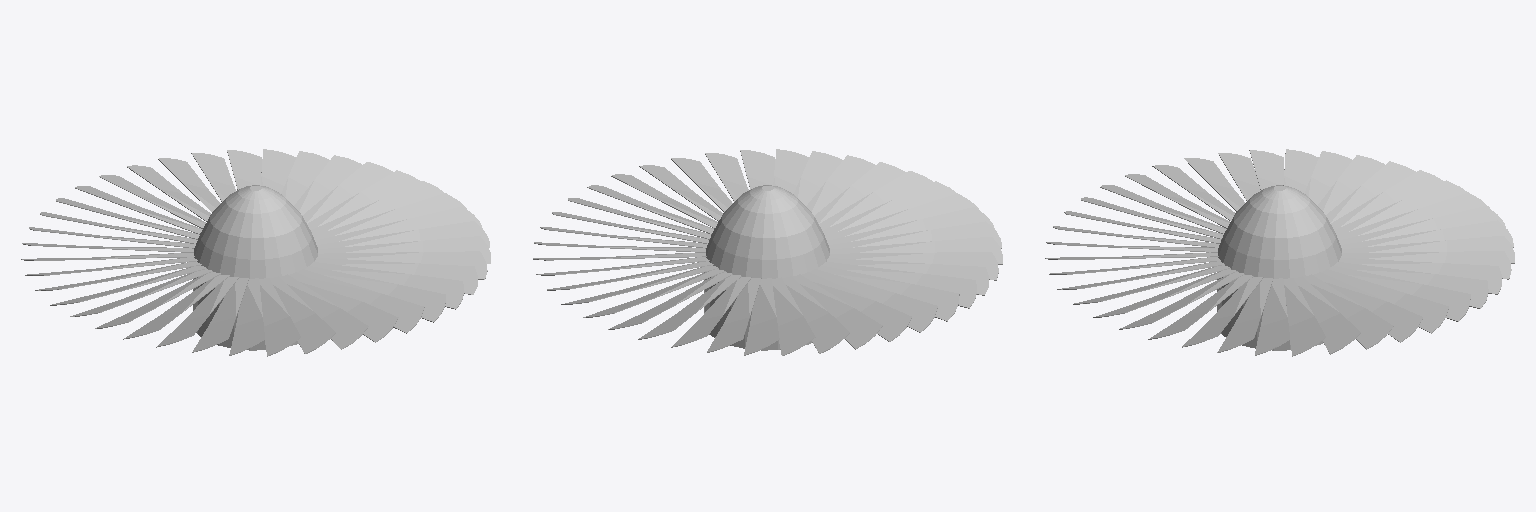
Rendered from fan.obj.
3 renders of one model, left to right at view 1: azimuth 30°, elevation 25°; view 2: azimuth 150°, elevation 25°; view 3: azimuth 270°, elevation 25°, orthographic.
Visible parts, largest first — view 1: Group_1_001, Group_2_029, Group_2_030, Group_2_028, Group_2_031, Group_2_027, Group_2_026, Group_2_032, Group_2_025, Group_2_033, Group_2_024, Group_2_023 (+28 smaller); view 2: Group_1_001, Group_2_003, Group_2_004, Group_2_005, Group_2_002, Group_2_001, Group_2_006, Group_2_038, Group_2_007, Group_2_037, Group_2_036, Group_2_035 (+28 smaller); view 3: Group_1_001, Group_2_017, Group_2_016, Group_2_015, Group_2_018, Group_2_014, Group_2_019, Group_2_013, Group_2_012, Group_2_020, Group_2_011, Group_2_010 (+28 smaller).
Boxes of the visible parts, x1,y1,x2,y2 form: Group_1_001: [193, 185, 317, 350]; Group_2_029: [297, 269, 424, 333]; Group_2_030: [289, 272, 398, 342]; Group_2_028: [305, 266, 445, 322]; Group_2_031: [280, 274, 368, 349]; Group_2_027: [310, 262, 463, 309]; Group_2_026: [315, 258, 477, 294]; Group_2_032: [270, 276, 335, 353]; Group_2_025: [317, 251, 487, 279]; Group_2_033: [259, 278, 300, 356]; Group_2_024: [318, 236, 490, 263]; Group_2_023: [317, 221, 489, 248]; Group_1_001: [704, 185, 829, 350]; Group_2_003: [810, 269, 937, 332]; Group_2_004: [802, 272, 911, 341]; Group_2_005: [793, 274, 882, 349]; Group_2_002: [818, 265, 959, 321]; Group_2_001: [822, 262, 976, 308]; Group_2_006: [782, 276, 849, 353]; Group_2_038: [829, 252, 998, 280]; Group_2_007: [772, 277, 815, 355]; Group_2_037: [830, 237, 1002, 264]; Group_2_036: [829, 221, 1001, 248]; Group_2_035: [827, 207, 994, 244]; Group_1_001: [1217, 185, 1341, 350]; Group_2_017: [1314, 272, 1422, 342]; Group_2_016: [1321, 269, 1448, 333]; Group_2_015: [1329, 266, 1470, 321]; Group_2_018: [1304, 274, 1393, 349]; Group_2_014: [1334, 262, 1488, 308]; Group_2_019: [1294, 276, 1360, 354]; Group_2_013: [1339, 258, 1501, 294]; Group_2_012: [1341, 251, 1511, 279]; Group_2_020: [1284, 278, 1325, 356]; Group_2_011: [1342, 236, 1514, 263]; Group_2_010: [1341, 220, 1513, 248].
Bounding box in the file's own units: 197 × 62.75 × 197.